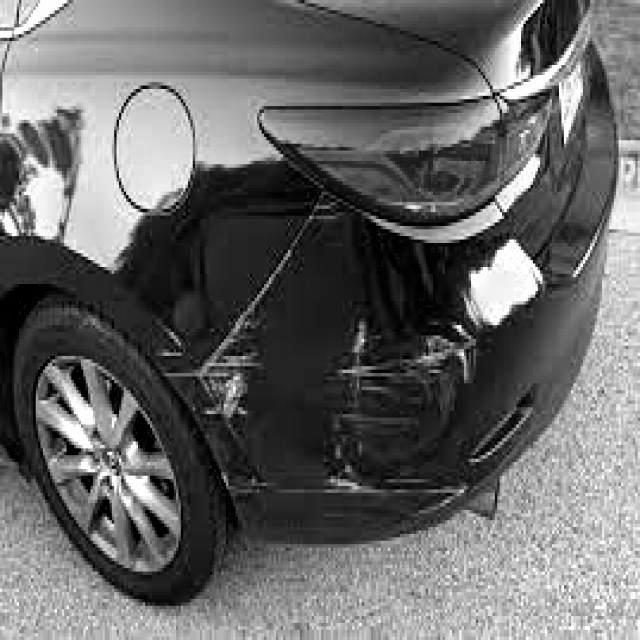rear-bumper-dent: (211, 321, 487, 518)
